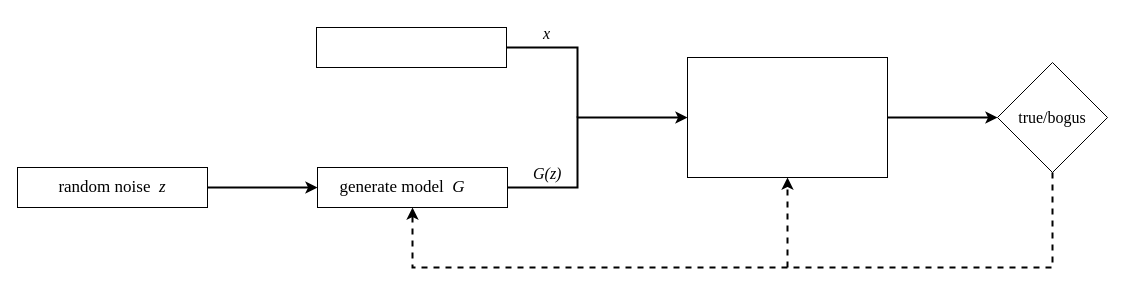
This 1125x293 diagram has some shape labels left out. Here are the shapes that lost their labels. From the top down, the box of each, then its label:
(316, 26, 506, 68): real data x
(686, 56, 888, 178): discriminant model D
